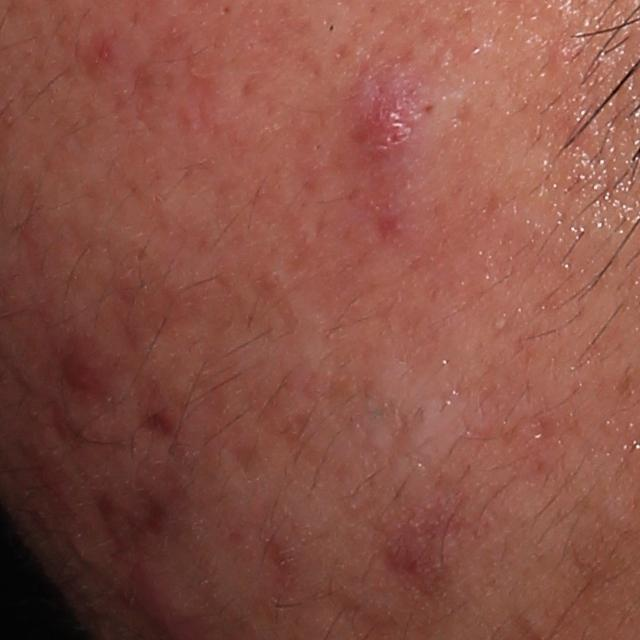comedo: (519, 608, 544, 639)
papule: (341, 80, 423, 162), (61, 355, 105, 389)
